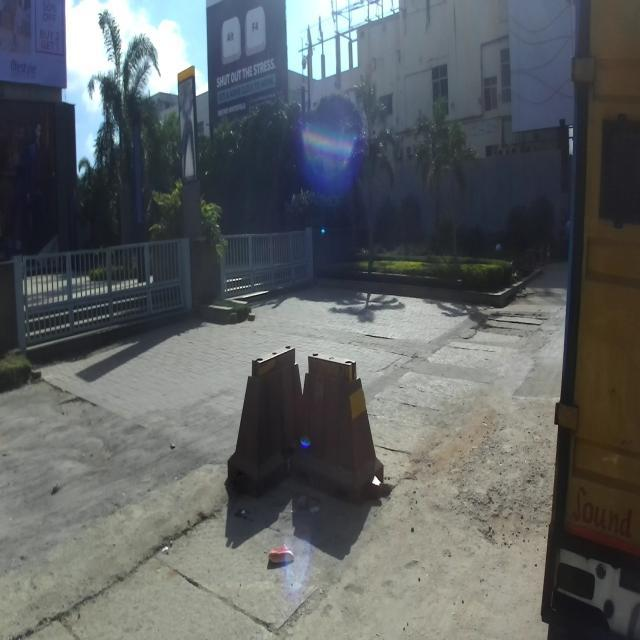pothole: (442, 403, 535, 602)
